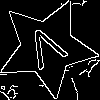V: (22, 23, 73, 79)
